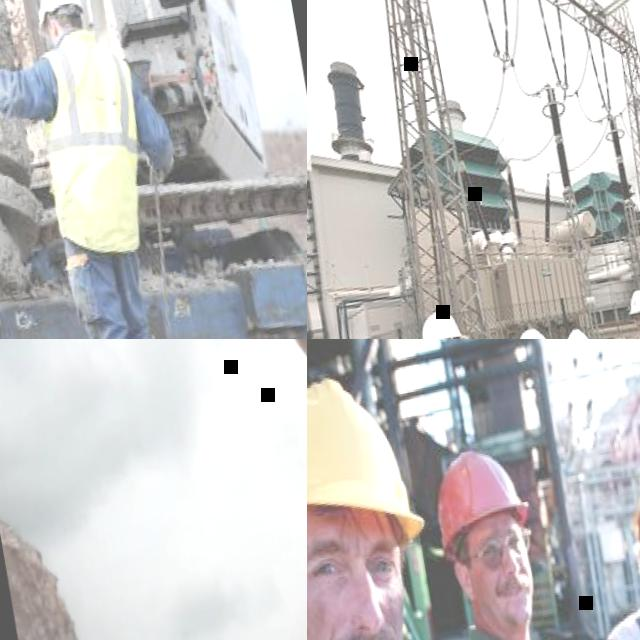Hardhat: (307, 361, 429, 553), (423, 438, 537, 560), (27, 0, 83, 33), (416, 305, 469, 339), (509, 320, 560, 339), (561, 324, 597, 339), (623, 284, 640, 312)
NO-Mask: (475, 569, 544, 631)
Person: (0, 0, 218, 339), (307, 357, 502, 640), (405, 429, 640, 640)
Safety Vest: (24, 23, 163, 260)
vehicle: (0, 0, 307, 339)
